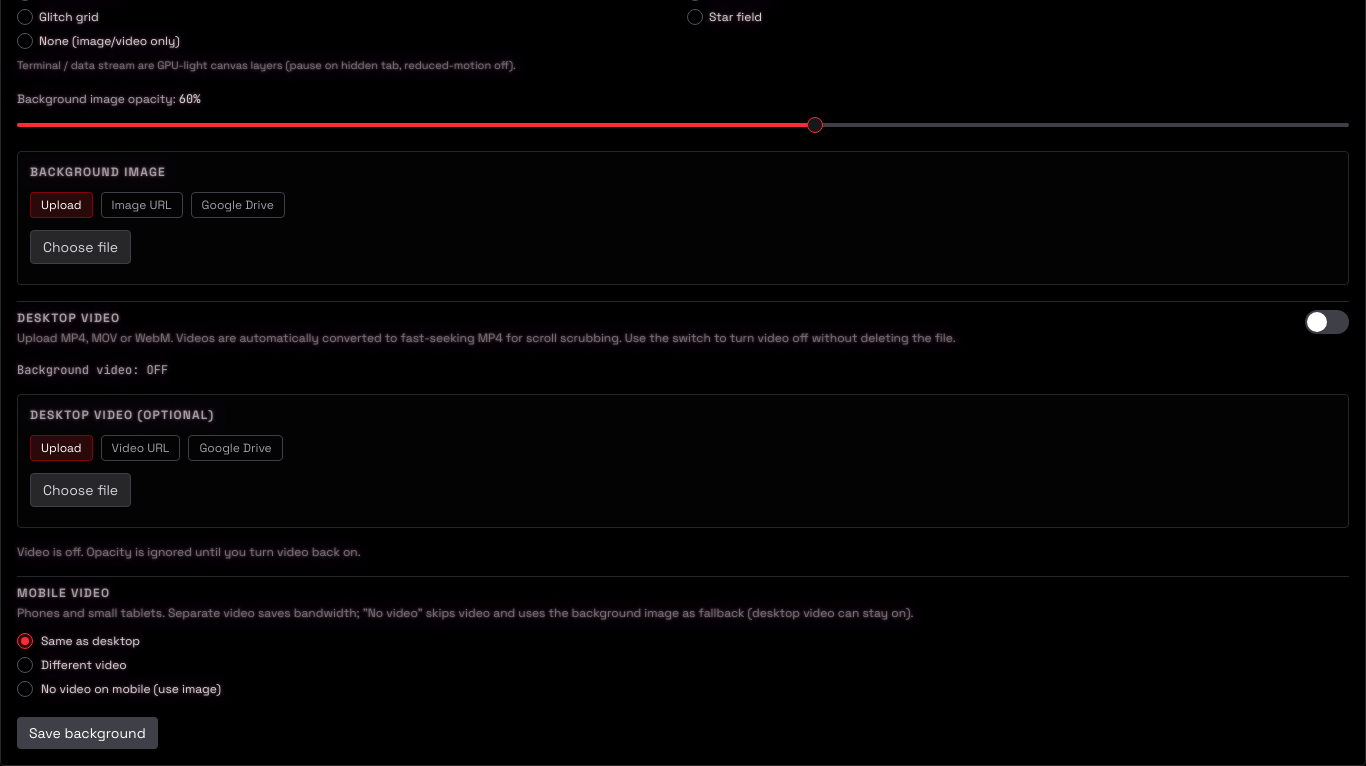
Test: background editor preview/save integration › preserves the existing save failure UI without announcing success
(page scrolled)
What coordinates should you click on to do the following:
click the button "Save background"
I would click on:
 (87, 733)
Its box is [17,717,158,749].
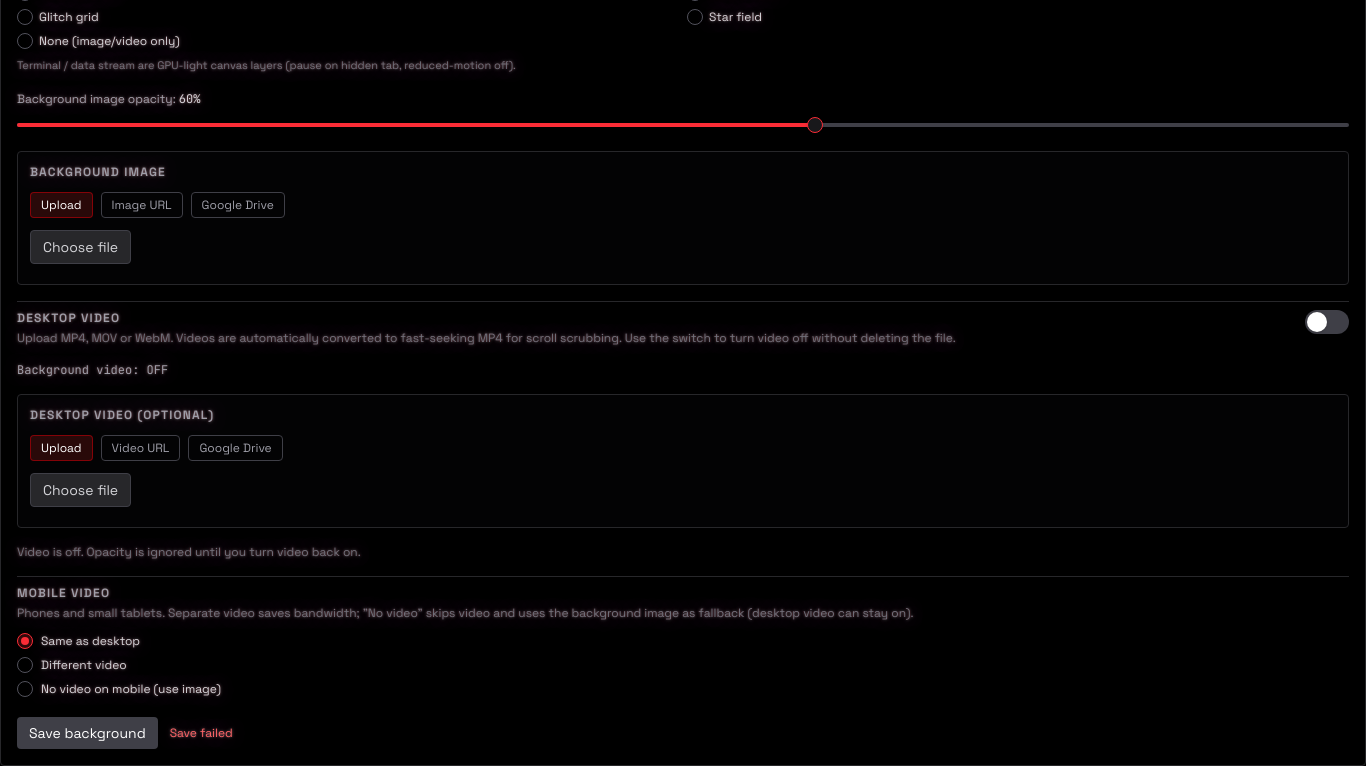
Expected: the text "Save failed" is shown, [170,725,233,741]
